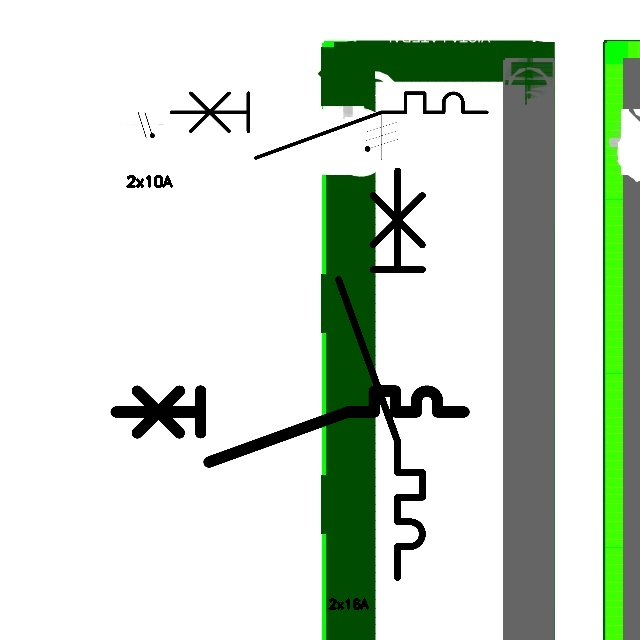interruptor_termomagnetico: (328, 160, 433, 588), (107, 382, 473, 471), (163, 85, 494, 166)
